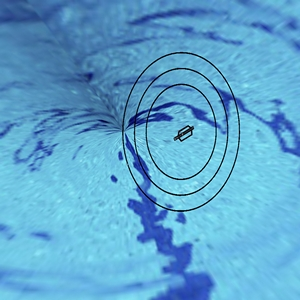circle: (112, 38, 259, 224)
submarine: (164, 115, 199, 148)
